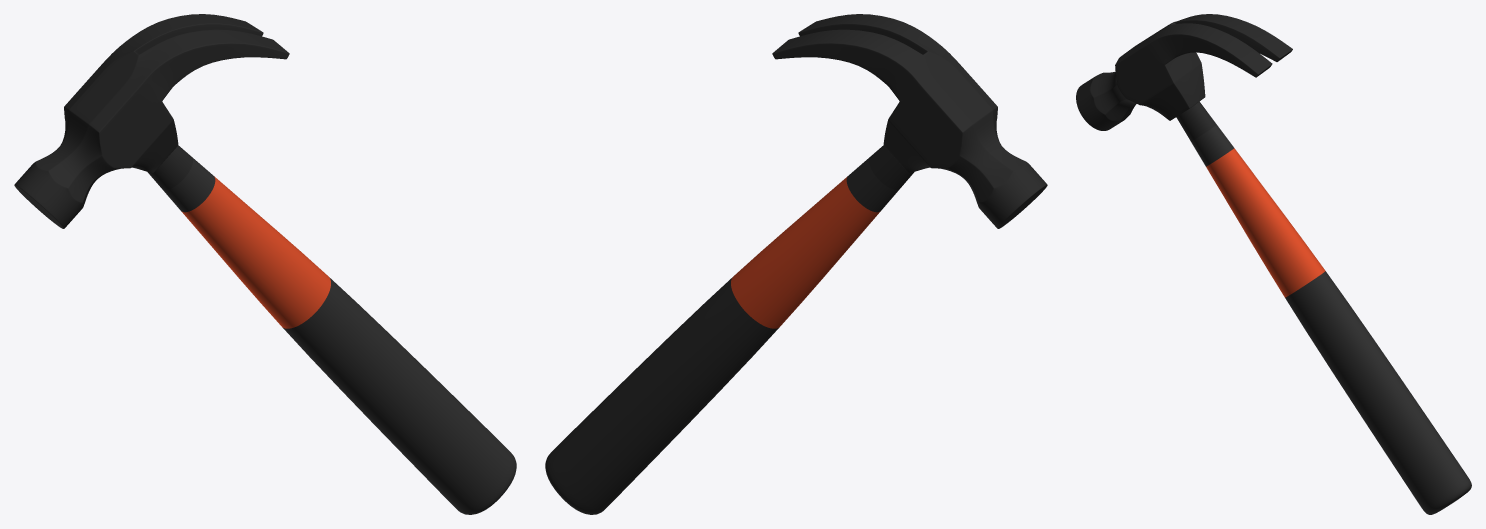
File: hammer4.dae
The picture shows the model from 3 angles, left to right: view 1: azimuth 30°, elevation 25°; view 2: azimuth 150°, elevation 25°; view 3: azimuth 330°, elevation 25°; orthographic projection. The views are drawn at different scales.
Parts seen in each view (by area): view 1: hammer2; view 2: hammer2; view 3: hammer2.
Boxes of the visible parts, x1,y1,x2,y2 form: hammer2: (14,14,516,514); hammer2: (545,14,1047,514); hammer2: (1076,14,1471,514).
Size of the model in its own units: 1.12 by 0.174 by 1.2.
